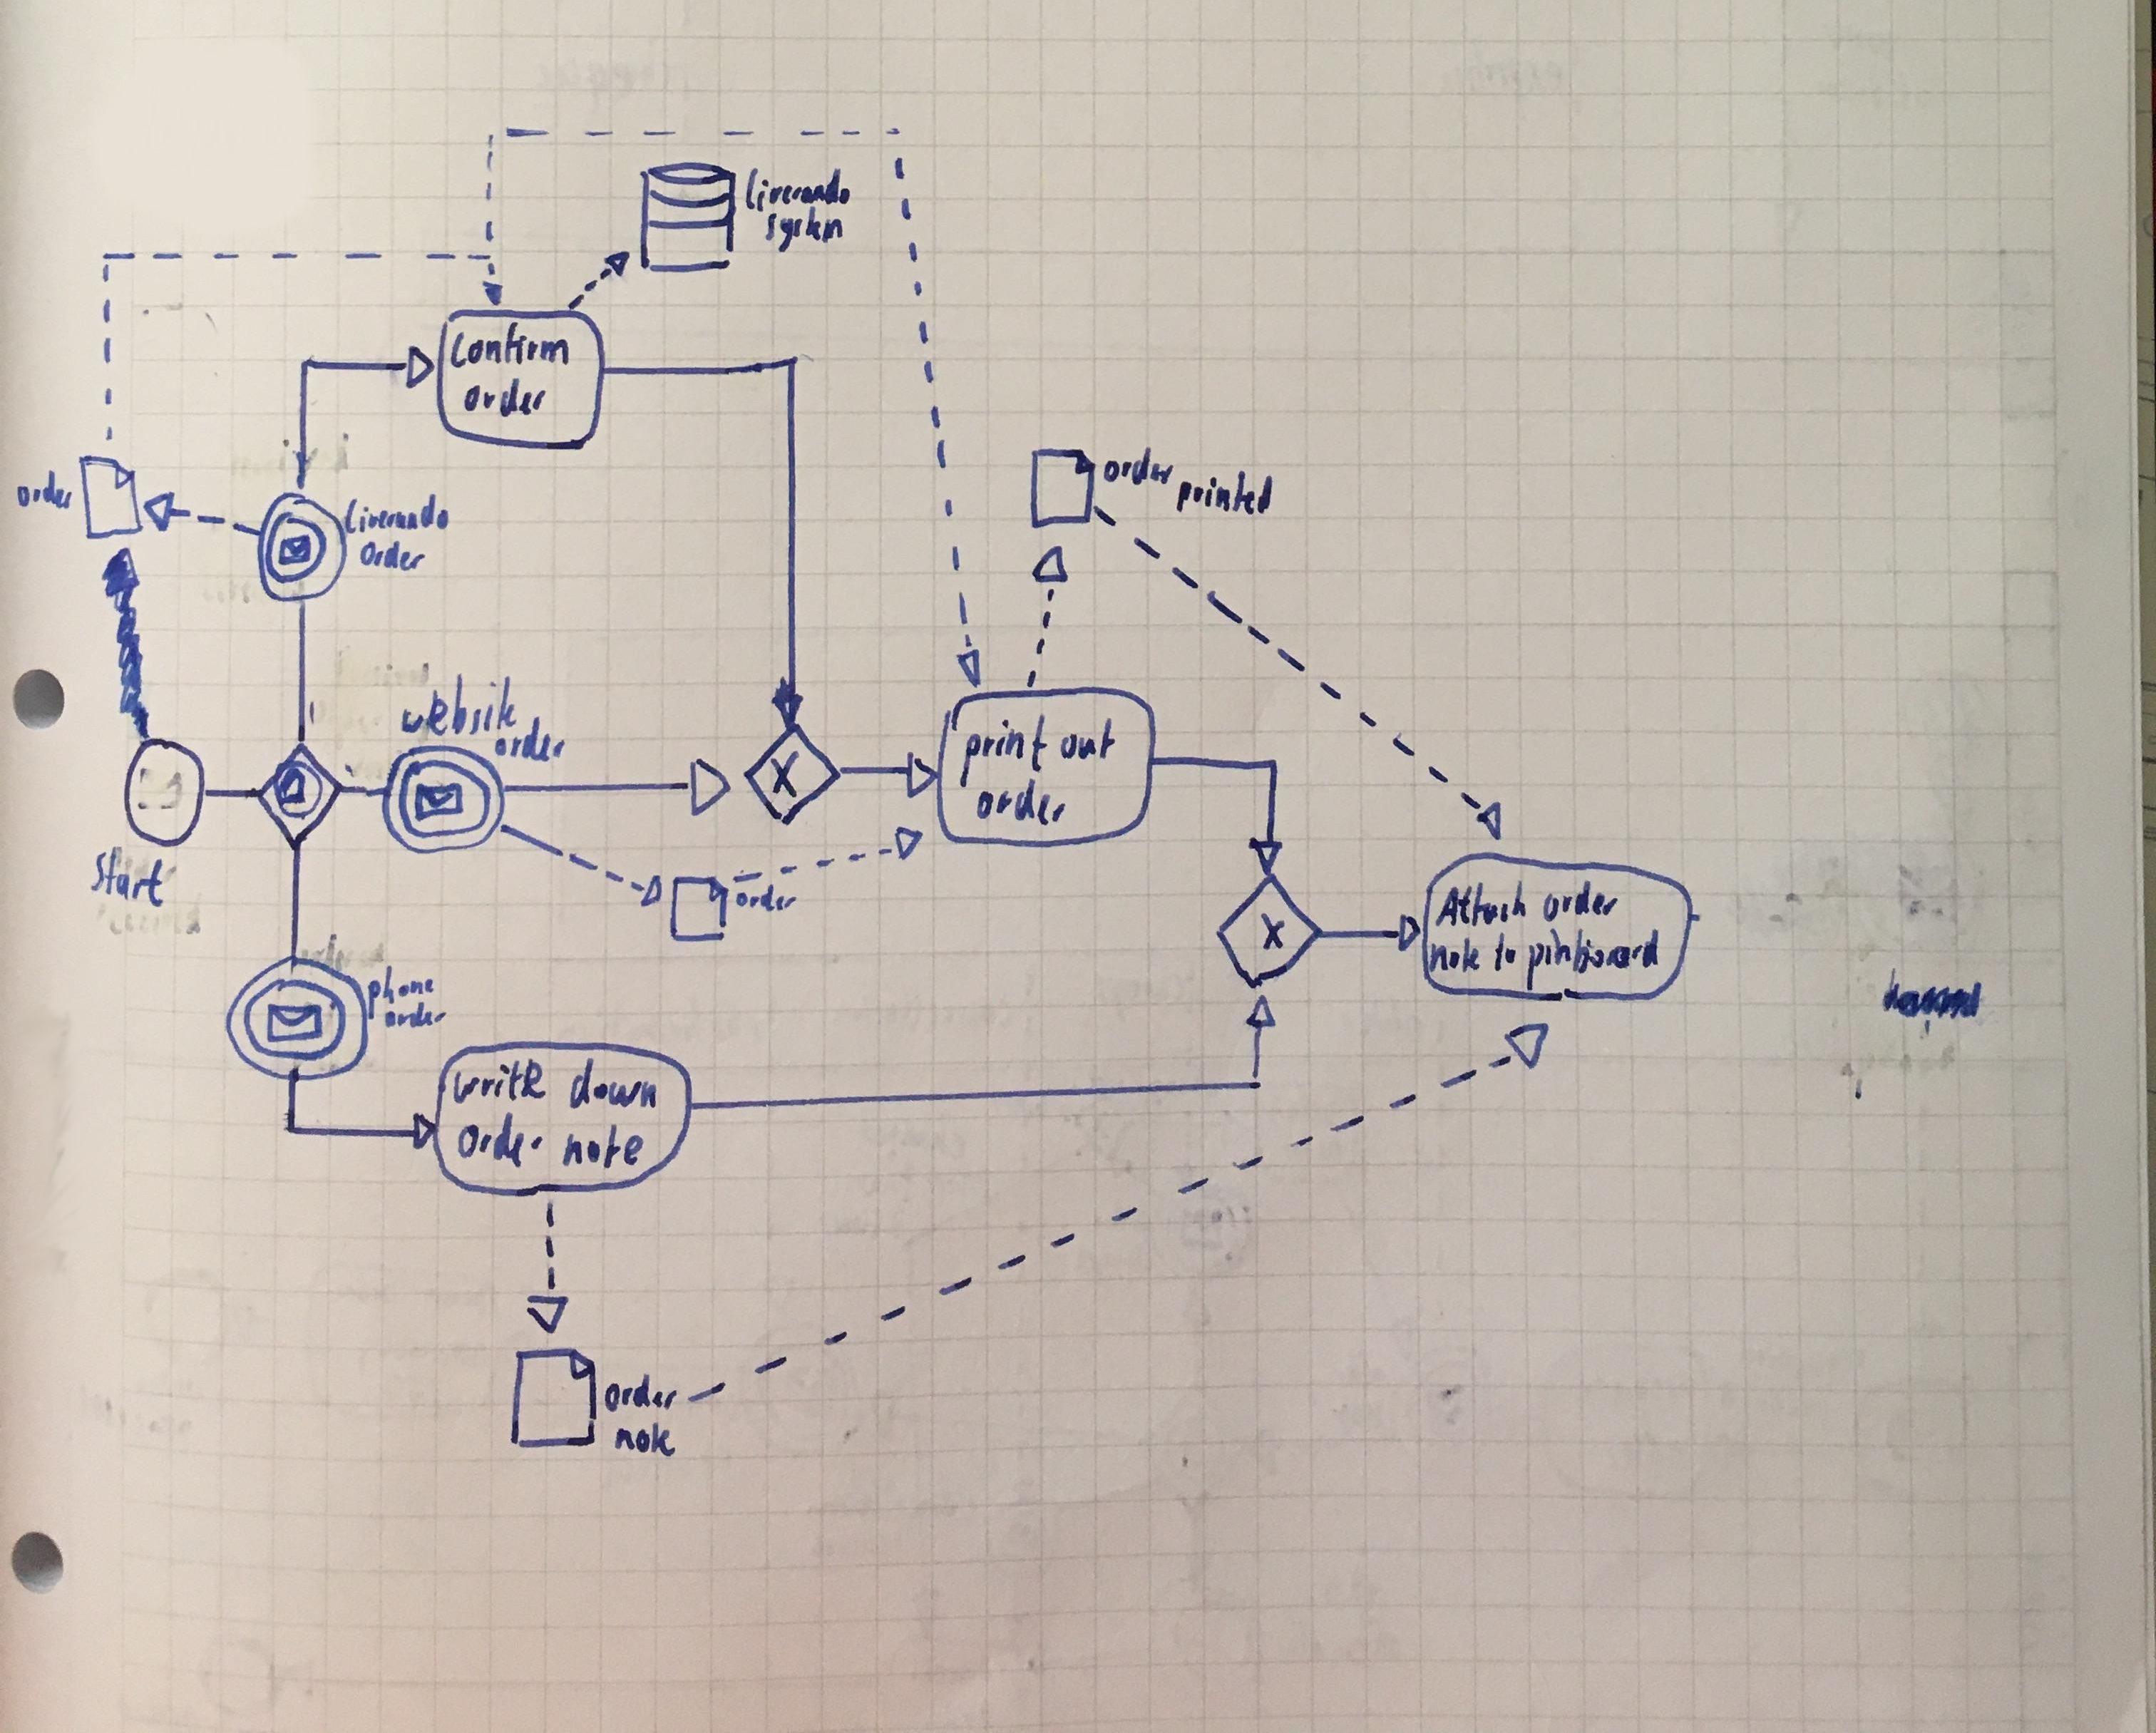Attach: (1434, 875, 1533, 930)
Start: (94, 840, 179, 900)
confirm: (447, 320, 578, 368)
down: (566, 1057, 660, 1111)
liverando: (341, 492, 453, 536)
liverendo: (739, 164, 854, 212)
note: (561, 1121, 646, 1172), (612, 1420, 681, 1457), (1429, 937, 1486, 973)
order: (455, 1114, 547, 1169), (973, 780, 1072, 826), (460, 377, 550, 421), (601, 1369, 684, 1413), (1539, 879, 1622, 923), (1100, 446, 1178, 490), (495, 720, 570, 766), (14, 467, 78, 515), (357, 538, 426, 575), (732, 881, 803, 912), (382, 1001, 451, 1027)
out: (1056, 716, 1118, 769)
phone: (359, 969, 437, 1012)
pinboard: (1521, 928, 1663, 989)
print: (957, 714, 1051, 785)
printed: (1173, 470, 1281, 522)
system: (761, 207, 845, 253)
to: (1489, 928, 1519, 974)
website: (398, 670, 518, 736)
write: (449, 1059, 548, 1105)
